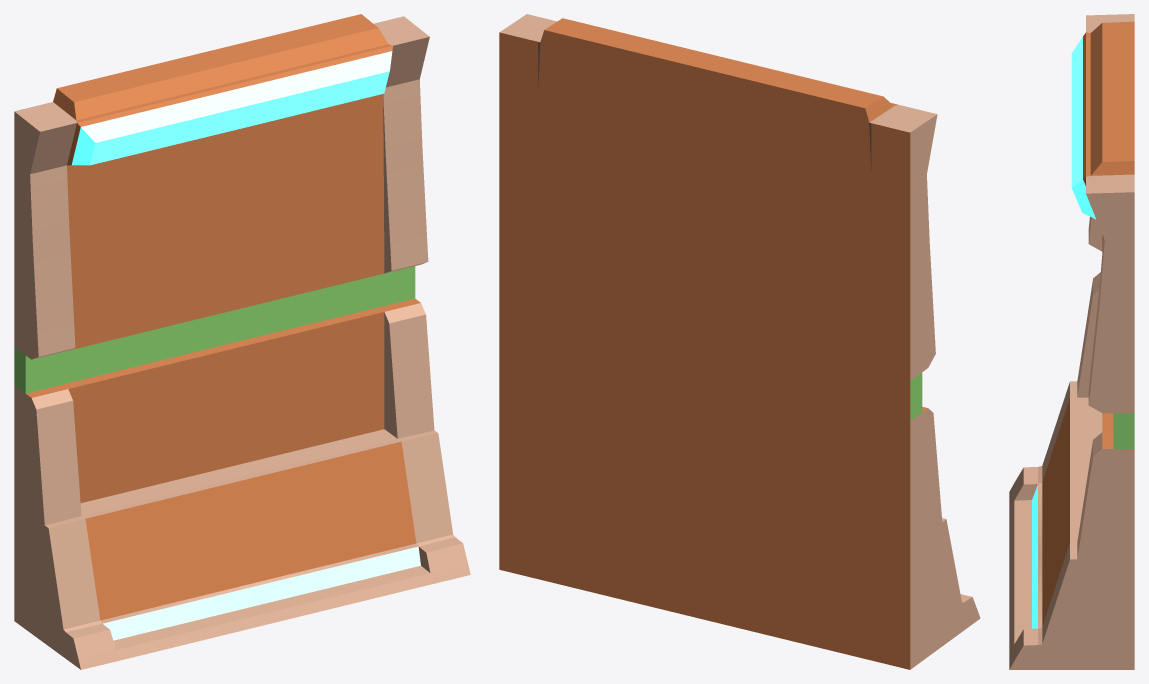
The model's file is T2_Wall.fbx.
3 renders of one model, left to right at view 1: azimuth 30°, elevation 25°; view 2: azimuth 150°, elevation 25°; view 3: azimuth 270°, elevation 25°, orthographic. The views are drawn at different scales.
Visible parts, largest first — view 1: T2_Wall, T2_WallPillars, WallLight; view 2: T2_Wall, T2_WallPillars; view 3: T2_Wall, T2_WallPillars, WallLight.
Part boxes in pixels (x1=…): T2_Wall: x1=14, y1=14, x2=470, y2=669; T2_WallPillars: x1=28, y1=79, x2=434, y2=525; WallLight: x1=67, y1=46, x2=392, y2=165; T2_Wall: x1=499, y1=14, x2=980, y2=669; T2_WallPillars: x1=925, y1=178, x2=942, y2=531; T2_Wall: x1=1009, y1=14, x2=1134, y2=669; T2_WallPillars: x1=1077, y1=216, x2=1107, y2=559; WallLight: x1=1071, y1=32, x2=1095, y2=219.
Bounding box in the file's own units: 200 × 256 × 59.36.
